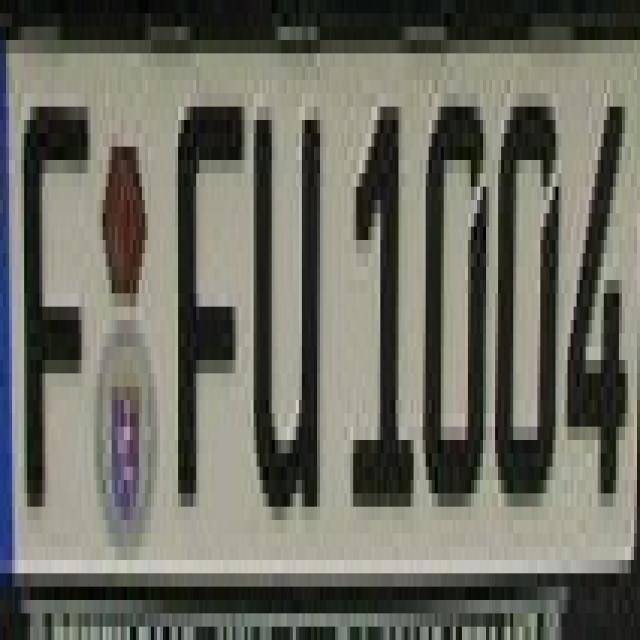0: (489, 106, 562, 506), (420, 94, 483, 494)
1: (344, 80, 417, 520)
4: (564, 106, 625, 506)
F: (18, 80, 85, 520), (172, 80, 236, 520)
U: (248, 93, 314, 507)
